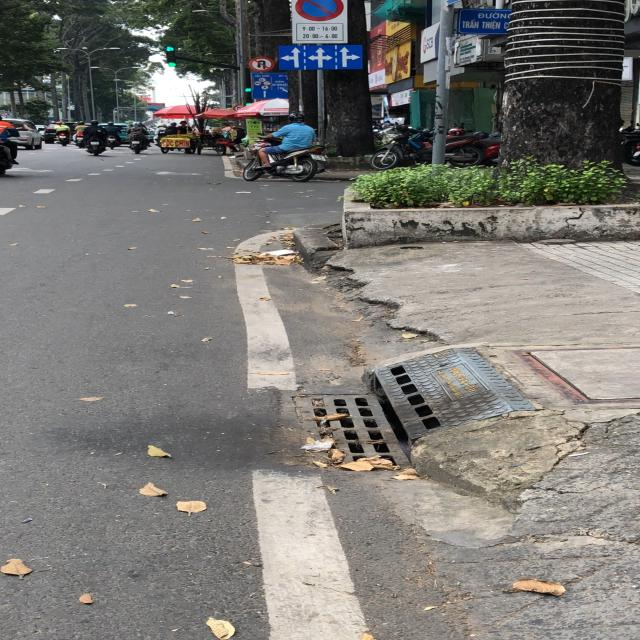Bien bao cam do xe: (289, 0, 349, 23)
Bien bao cam quay dau xe: (247, 56, 284, 74)
